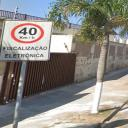speed_limit_40: (11, 23, 45, 44)
